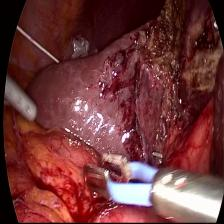Bipolar: (78, 146, 190, 217)
Irrigator: (5, 73, 38, 133)
Specimen Bag: (53, 27, 99, 69)
